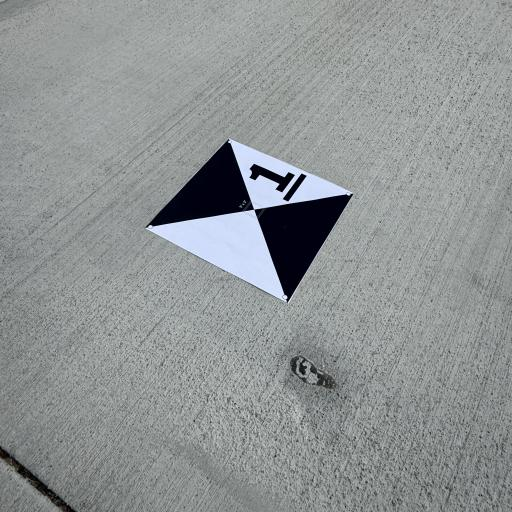target1: (144, 130, 364, 306)
